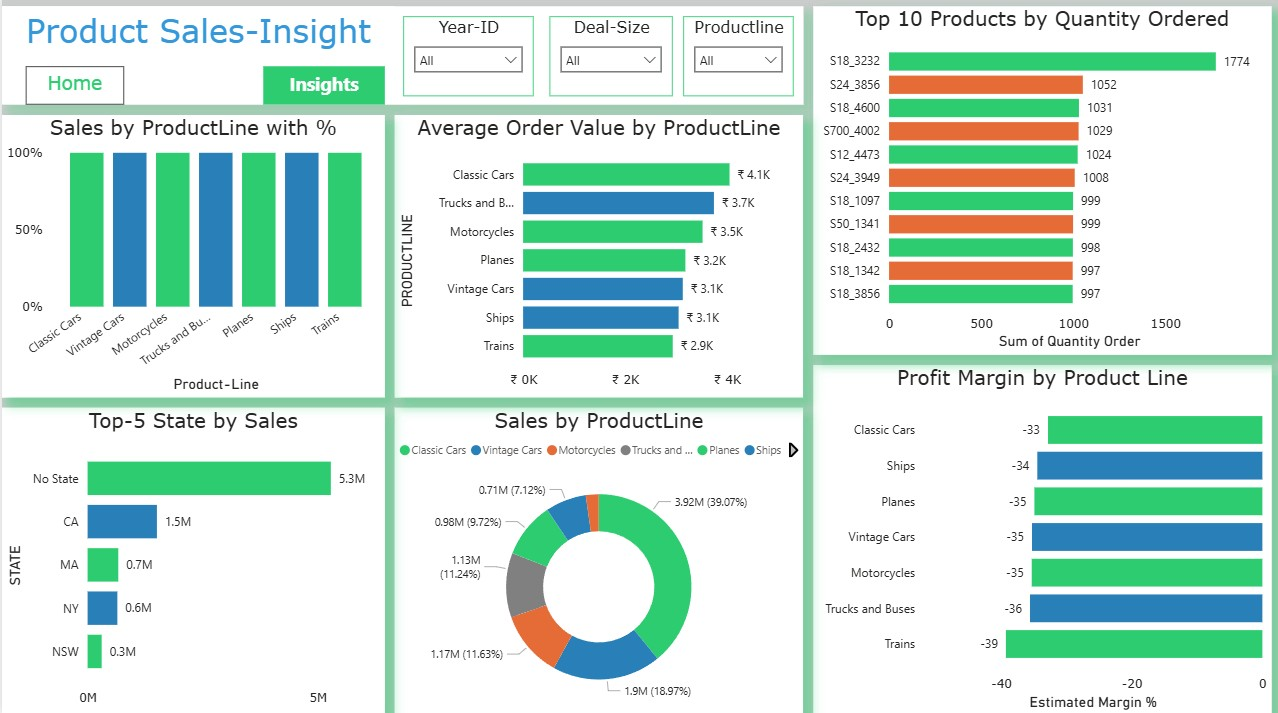

This screenshot's page, from the dashboard's own definition file:
{"tool":"powerbi","page":{"name":"Product","canvas":[1280,720],"ordinal":1},"visuals":[{"type":"shape","box":[0,11.4,801.4,98.6],"z":0},{"type":"shape","box":[0,120,382.9,282.9],"z":1000},{"type":"shape","box":[0,412.9,382.9,307.1],"z":2000},{"type":"shape","box":[392.9,412.9,408.6,307.1],"z":3000},{"type":"shape","box":[392.9,120,408.6,282.9],"z":4000},{"type":"shape","box":[811.4,370,458.6,350],"z":5000},{"type":"textbox","box":[0,11.4,392.9,55.7],"z":6000},{"type":"textbox","box":[24.3,71.4,98.6,38.6],"z":7000},{"type":"textbox","box":[261.4,71.4,121.4,38.6],"z":8000},{"type":"slicer","title":"Year-ID","fields":{"Values":["db_sales customer_data.YEAR_ID"]},"box":[401.4,21.4,130,80],"z":9000},{"type":"slicer","title":"Deal-Size","fields":{"Values":["db_sales customer_data.DEALSIZE"]},"box":[547.1,21.4,122.9,80],"z":10000},{"type":"slicer","title":"Productline","fields":{"Values":["db_sales customer_data.PRODUCTLINE"]},"box":[681.4,21.4,110,80],"z":11000},{"type":"shape","box":[811.4,11.4,458.6,348.6],"z":12000},{"type":"actionButton","box":[24.3,71.4,100,40],"z":13000},{"type":"hundredPercentStackedColumnChart","title":"Sales by ProductLine with % ","fields":{"Category":["db_sales customer_data.PRODUCTLINE"],"Y":["db_sales customer_data.total_sales"]},"box":[0,119.4,382.8,282.7],"z":14000},{"type":"clusteredBarChart","title":"Average Order Value by ProductLine","fields":{"Category":["db_sales customer_data.PRODUCTLINE"],"Y":["db_sales customer_data.AverageOrderValue"]},"box":[392.5,119.4,408.9,282.7],"z":15000},{"type":"clusteredBarChart","title":"Top-5 State by Sales","fields":{"Category":["db_sales customer_data.STATE"],"Y":["db_sales customer_data.total_sales"]},"box":[0,413,382.8,307.4],"z":16000},{"type":"donutChart","title":"Sales by ProductLine","fields":{"Y":["db_sales customer_data.total_sales"],"Category":["db_sales customer_data.PRODUCTLINE"]},"box":[392.5,413,408.9,307.4],"z":17000},{"type":"clusteredBarChart","title":"Top 10 Products by Quantity Ordered","fields":{"Y":["Sum(db_sales customer_data.QUANTITYORDERED)"],"Category":["db_sales customer_data.PRODUCTCODE"]},"box":[811,11,458.3,348.5],"z":18000},{"type":"clusteredBarChart","title":"Profit Margin by Product Line","fields":{"Category":["db_sales customer_data.PRODUCTLINE"],"Y":["db_sales customer_data.Estimated Margin %"]},"box":[811,370.5,458.3,349.9],"z":19000}]}

Visuals, with their boxes in screenshot pixels (x1, y1, x2, y2), scaled from the page's 1280x720 canvas onto the 1278x713 screenshot:
shape: [0,11,800,109]
shape: [0,119,382,399]
shape: [0,409,382,712]
shape: [392,409,800,712]
shape: [392,119,800,399]
shape: [810,366,1268,712]
textbox: [0,11,392,66]
textbox: [24,71,123,109]
textbox: [261,71,382,109]
"Year-ID" slicer: [401,21,531,100]
"Deal-Size" slicer: [546,21,669,100]
"Productline" slicer: [680,21,790,100]
shape: [810,11,1268,356]
actionButton: [24,71,124,110]
"Sales by ProductLine with % " hundredPercentStackedColumnChart: [0,118,382,398]
"Average Order Value by ProductLine" clusteredBarChart: [392,118,800,398]
"Top-5 State by Sales" clusteredBarChart: [0,409,382,712]
"Sales by ProductLine" donutChart: [392,409,800,712]
"Top 10 Products by Quantity Ordered" clusteredBarChart: [810,11,1267,356]
"Profit Margin by Product Line" clusteredBarChart: [810,367,1267,712]
